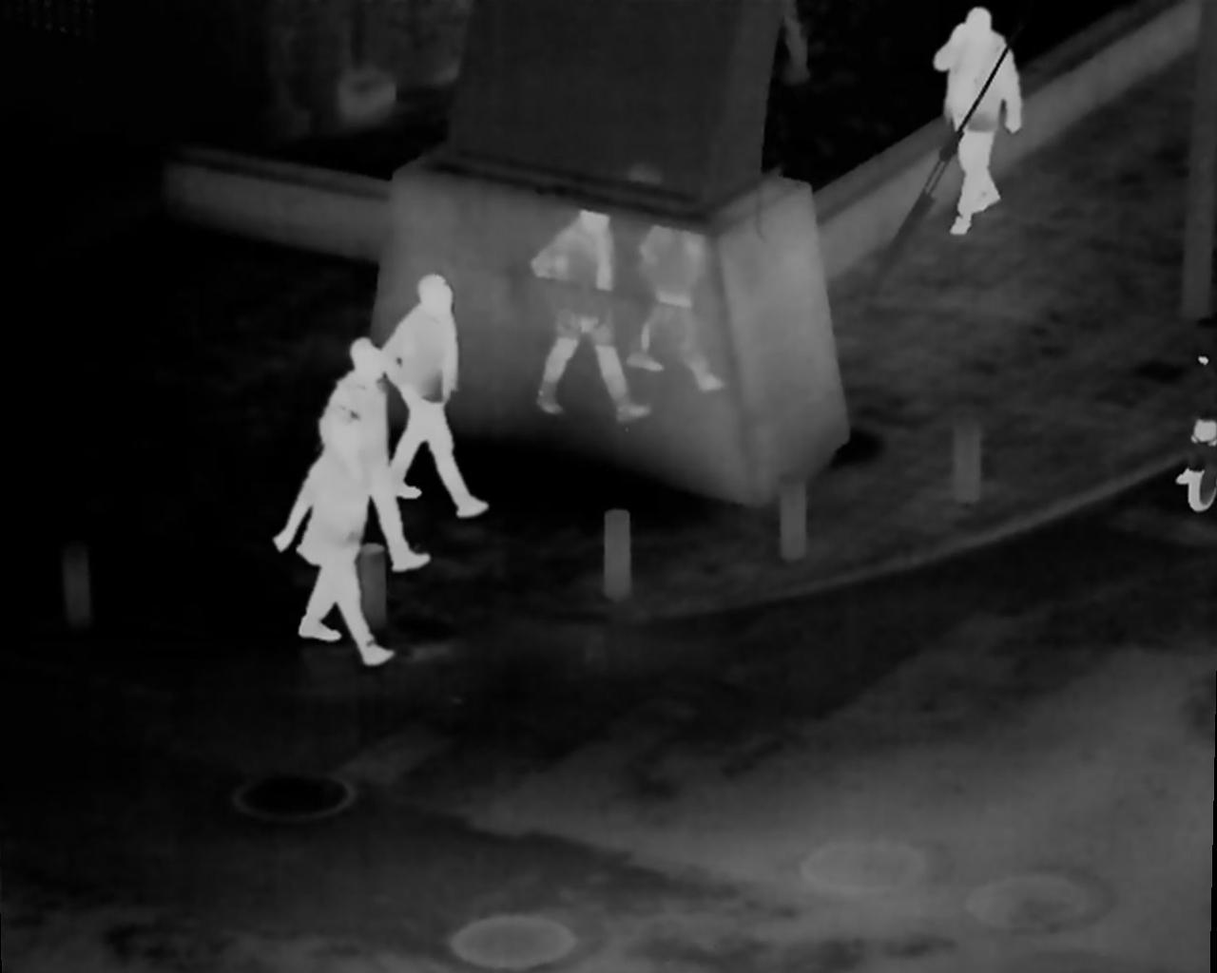person: (278, 405, 395, 666), (382, 270, 493, 519), (320, 335, 433, 574)
